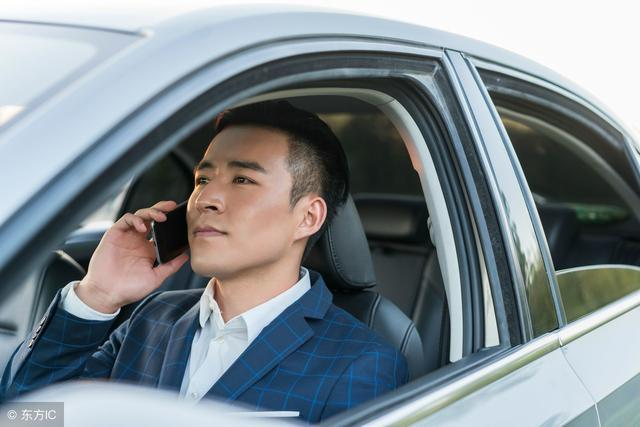calling: (86, 197, 191, 305)
